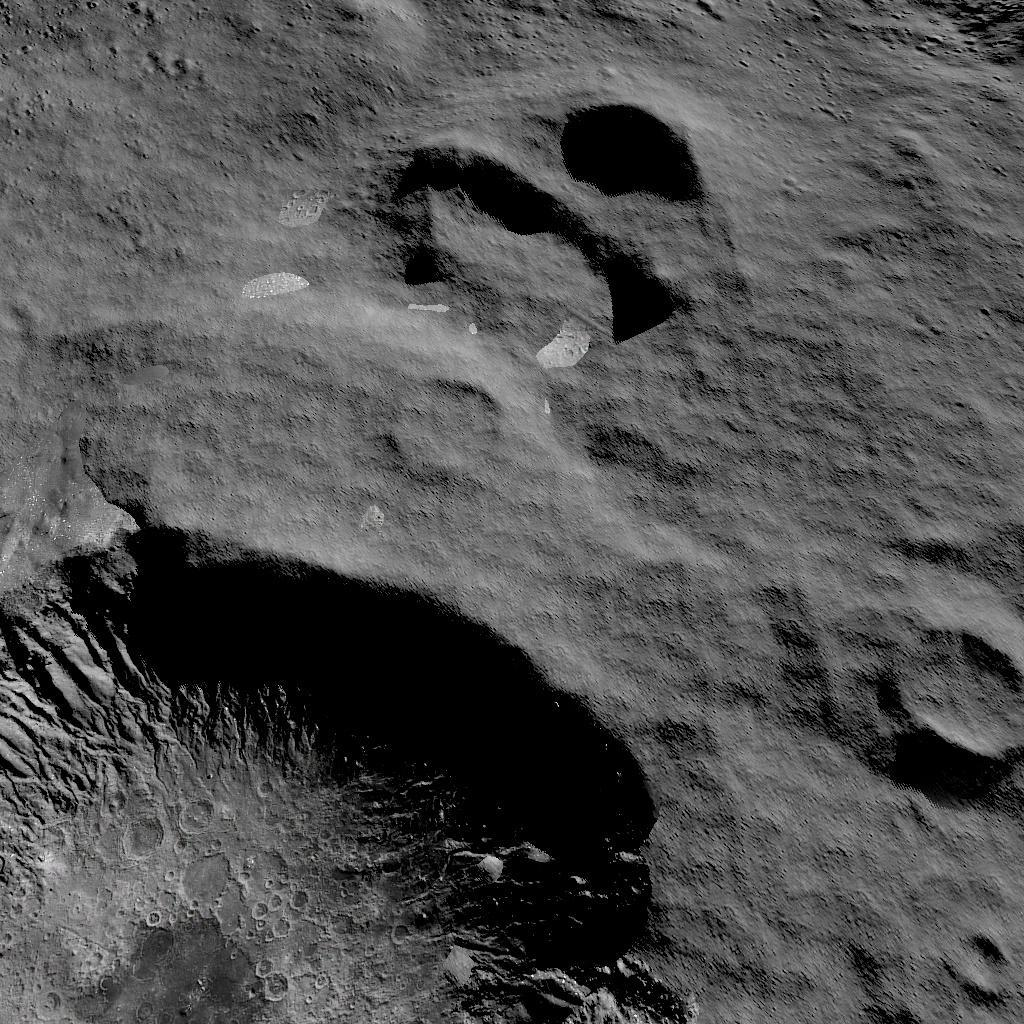Crater: (0, 508, 695, 1024), (382, 64, 757, 340), (866, 608, 1024, 788), (406, 366, 542, 495)
Plan surface: (0, 0, 346, 495), (777, 4, 1024, 580)
